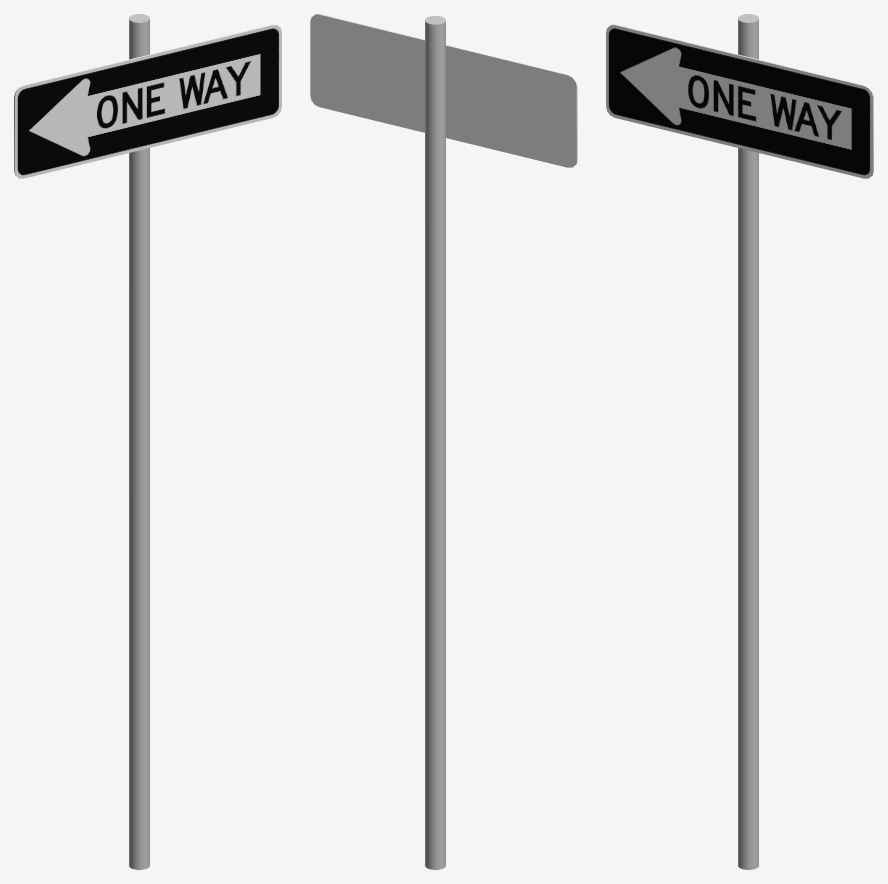
File: OneWayLeftSign.fbx
The picture shows the model from 3 angles, left to right: view 1: azimuth 30°, elevation 25°; view 2: azimuth 150°, elevation 25°; view 3: azimuth 330°, elevation 25°; orthographic projection.
Visible parts, largest first — view 1: One_Way_Right, Post; view 2: One_Way_Right, Post; view 3: One_Way_Right, Post.
Part boxes in pixels (left/top/right/bottom): One_Way_Right: left=14, top=24, right=281, bottom=178; Post: left=129, top=14, right=149, bottom=869; One_Way_Right: left=310, top=14, right=577, bottom=167; Post: left=425, top=16, right=445, bottom=869; One_Way_Right: left=606, top=24, right=873, bottom=178; Post: left=738, top=14, right=758, bottom=869.
Bounding box in the file's own units: 72.59 × 220 × 6.7.
Materials: 2 (1 with a texture image).
